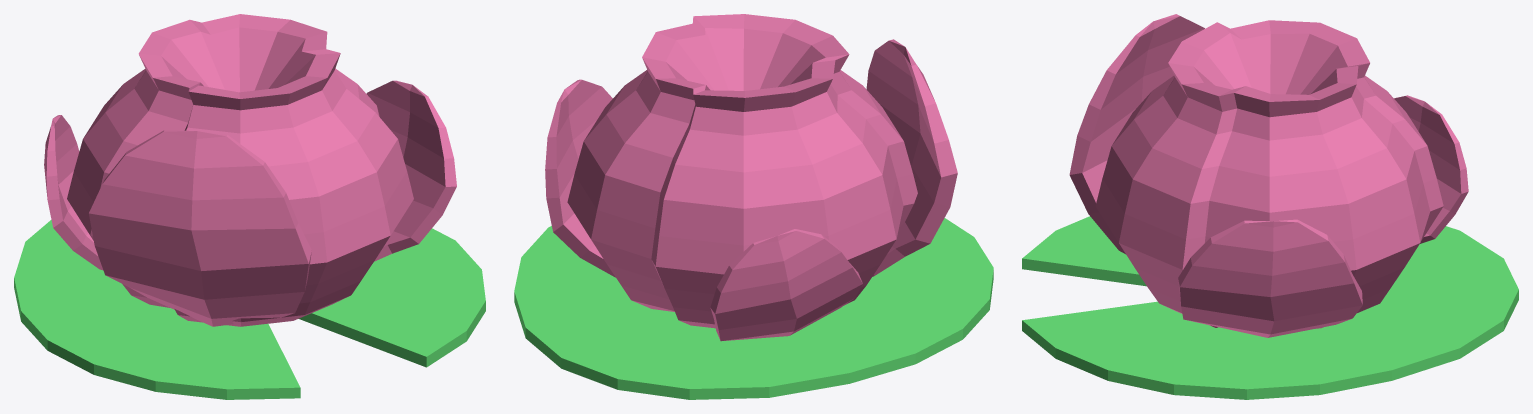
The model's file is florcerrada.fbx.
The picture shows the model from 3 angles, left to right: view 1: azimuth 30°, elevation 25°; view 2: azimuth 150°, elevation 25°; view 3: azimuth 270°, elevation 25°; orthographic projection.
Parts seen in each view (by area): view 1: Cylinder, Cylinder.001; view 2: Cylinder, Cylinder.001; view 3: Cylinder, Cylinder.001.
Boxes of the visible parts, <box> form: Cylinder: <box>14,14,485,399</box>; Cylinder.001: <box>44,80,456,326</box>; Cylinder: <box>514,14,993,399</box>; Cylinder.001: <box>545,39,957,341</box>; Cylinder: <box>1022,20,1518,399</box>; Cylinder.001: <box>1069,14,1468,337</box>.
Bounding box in the file's own units: 400 × 225 × 420.
